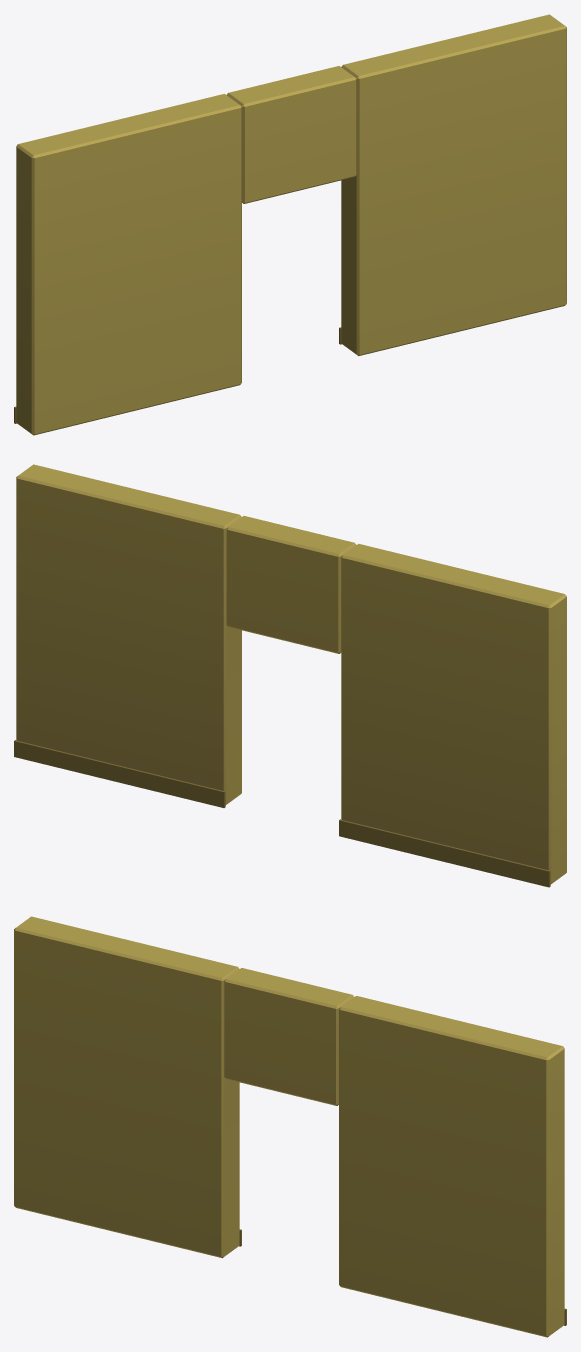
Rendered from BR_DoorPartition.glb.
3 views of the same model, one above another, from view 1: azimuth 30°, elevation 25°; view 2: azimuth 150°, elevation 25°; view 3: azimuth 330°, elevation 25° (orthographic).
Visible parts, largest first — view 1: BR_DoorPartition__Body; view 2: BR_DoorPartition__Body; view 3: BR_DoorPartition__Body.
Boxes of the visible parts, x1,y1,x2,y2 form: BR_DoorPartition__Body: [14, 14, 566, 435]; BR_DoorPartition__Body: [14, 464, 566, 887]; BR_DoorPartition__Body: [14, 916, 566, 1337].
Bounding box in the file's own units: 28 × 14 × 1.7.
